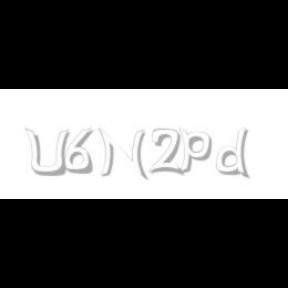2: (148, 128, 182, 176)
6: (65, 128, 94, 176)
N: (97, 128, 146, 180)
U: (24, 128, 70, 178)
d: (216, 128, 253, 180)
p: (179, 128, 216, 174)
